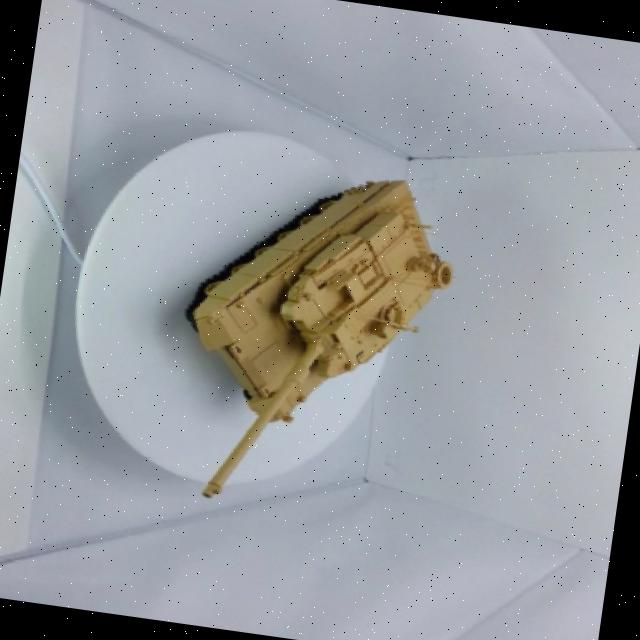korea tank: (134, 134, 492, 542)
